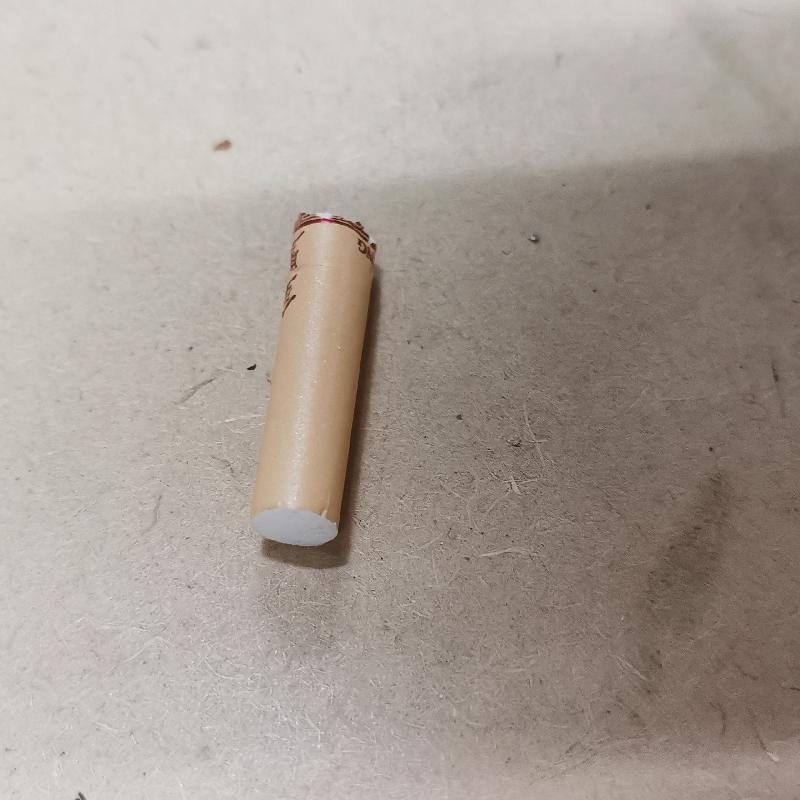cigarette: (244, 210, 379, 554)
